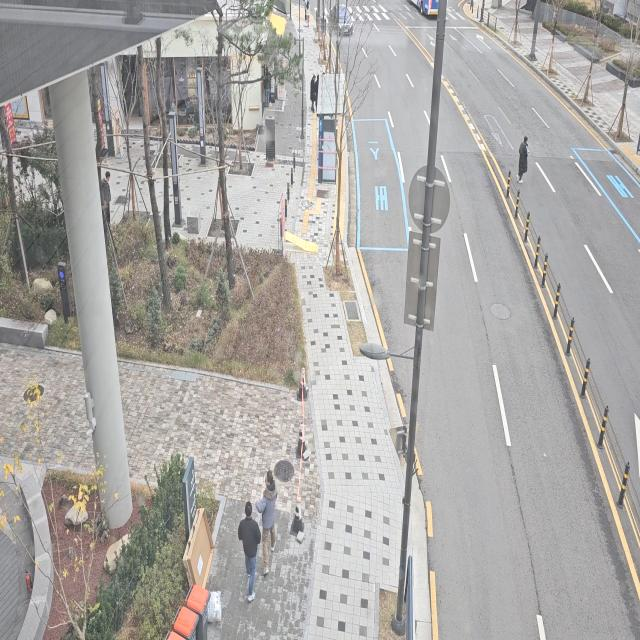Bus: (404, 0, 448, 20)
Car: (329, 3, 360, 45)
